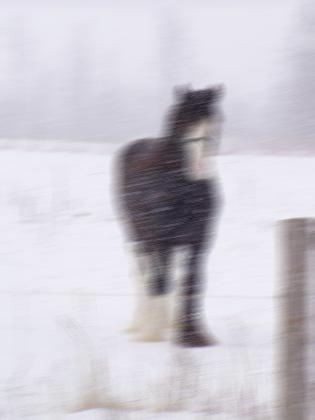horse: (113, 81, 221, 347)
